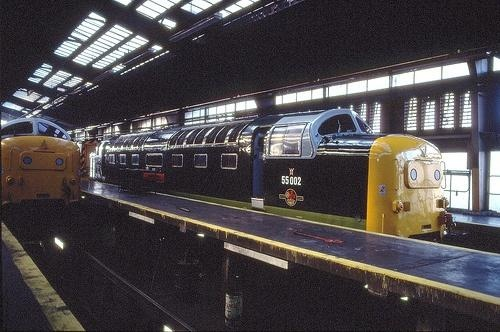train: (98, 107, 461, 243), (1, 115, 87, 218)
